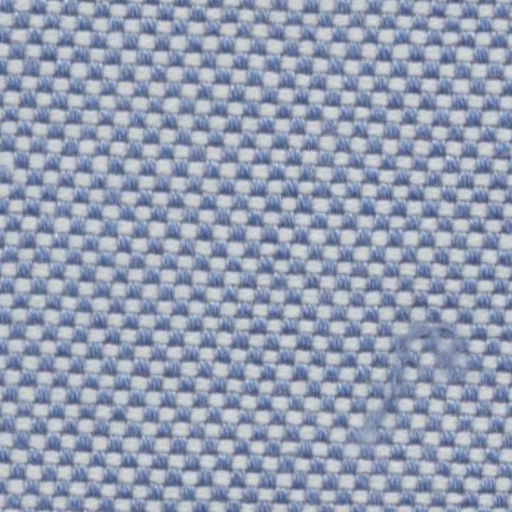DuanSha: (348, 306, 482, 458)
